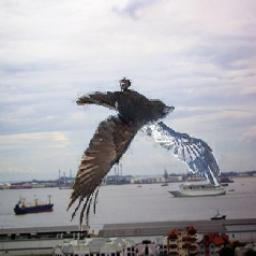Crow: (66, 76, 222, 231)
